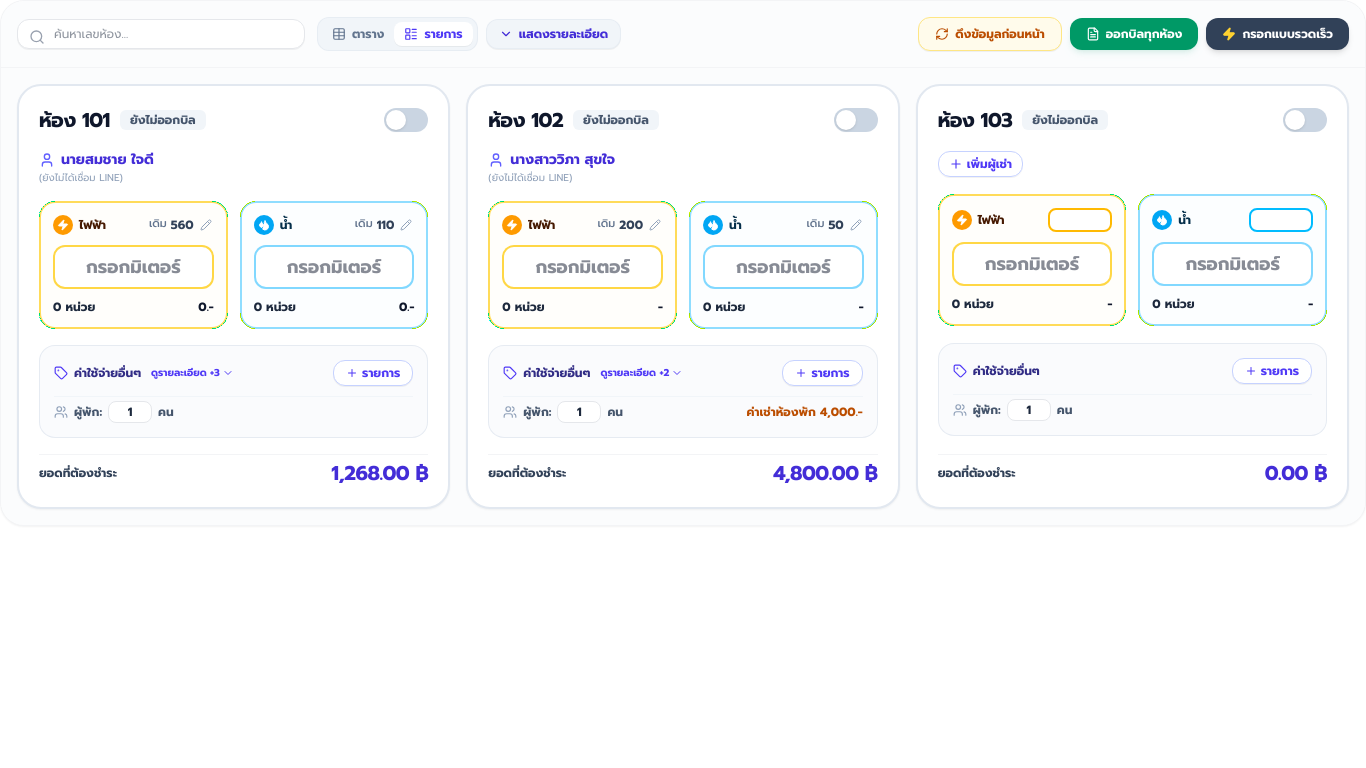
Scenario: HORPLUS LOCAL-07 — Owner Meter List Mode UX Suite (L1 - L28) › L9. current < previous renders canonical error
The width and height of the screenshot is (1366, 768).
Expected: the element with test id "meter-list-card-room-101" is shown, [17,84,450,508]
Note: prev is 560, enter 400
Step 1. Type "400" into the field with placeholder "กรอกมิเตอร์" below "560" → point(133, 266), box [53,244,214,288]
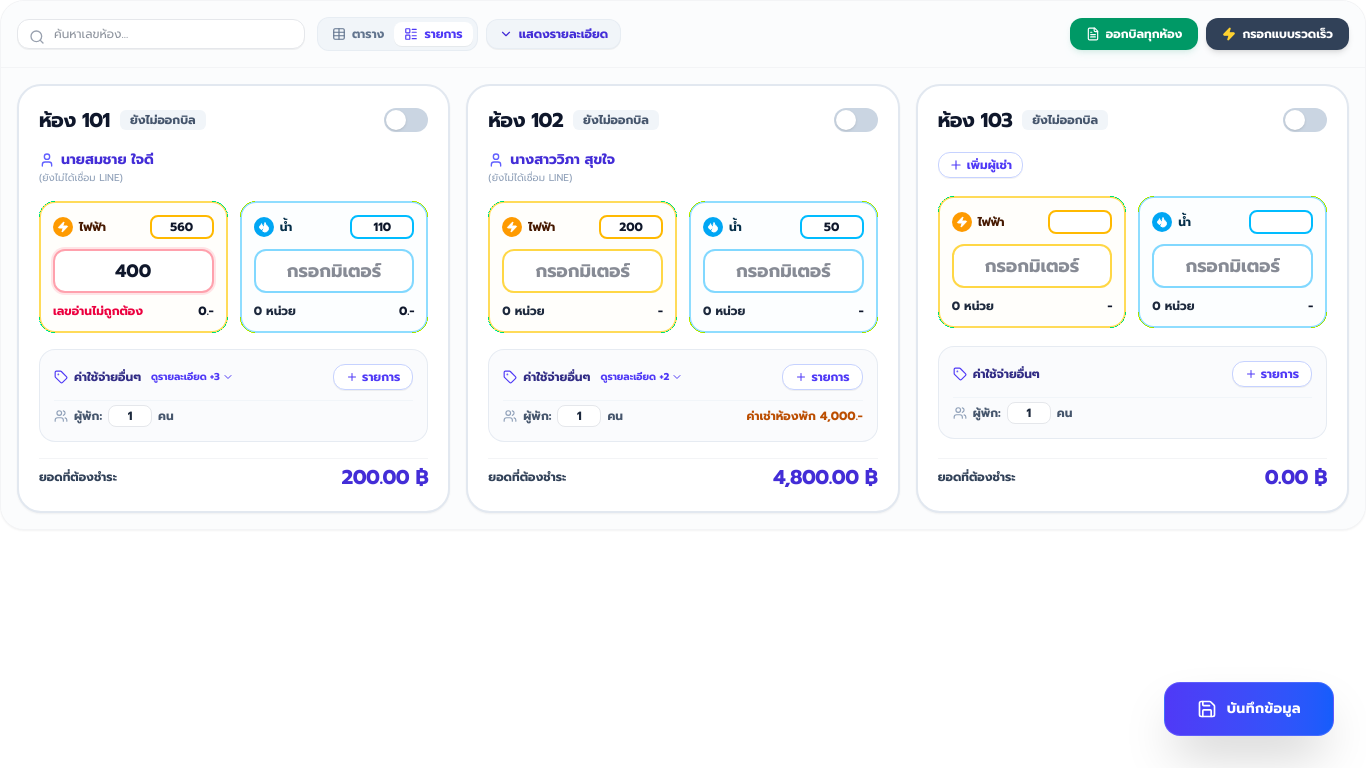
Expected: the text "เลขอ่านไม่ถูกต้อง" is shown, [53,302,143,318]
